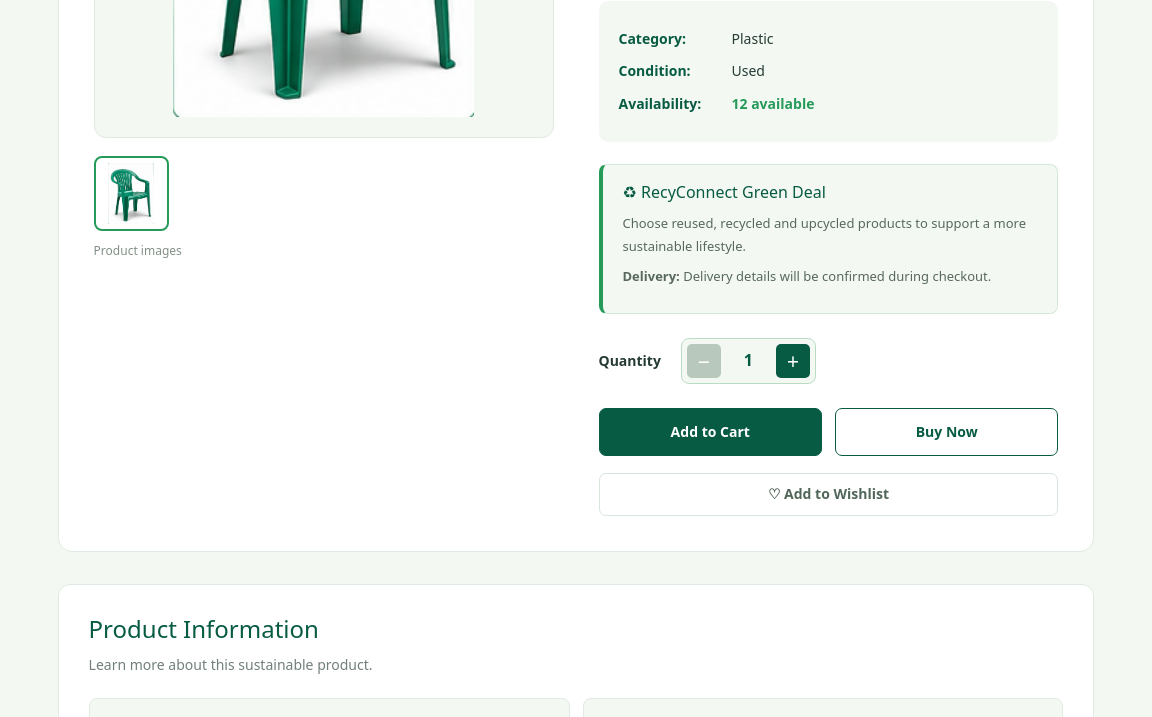
Test: ProductDetails Component › Quantity Controls › increases quantity when the plus button is clicked
(page scrolled)
Click the button "+": point(793, 361) [776, 344, 810, 378]
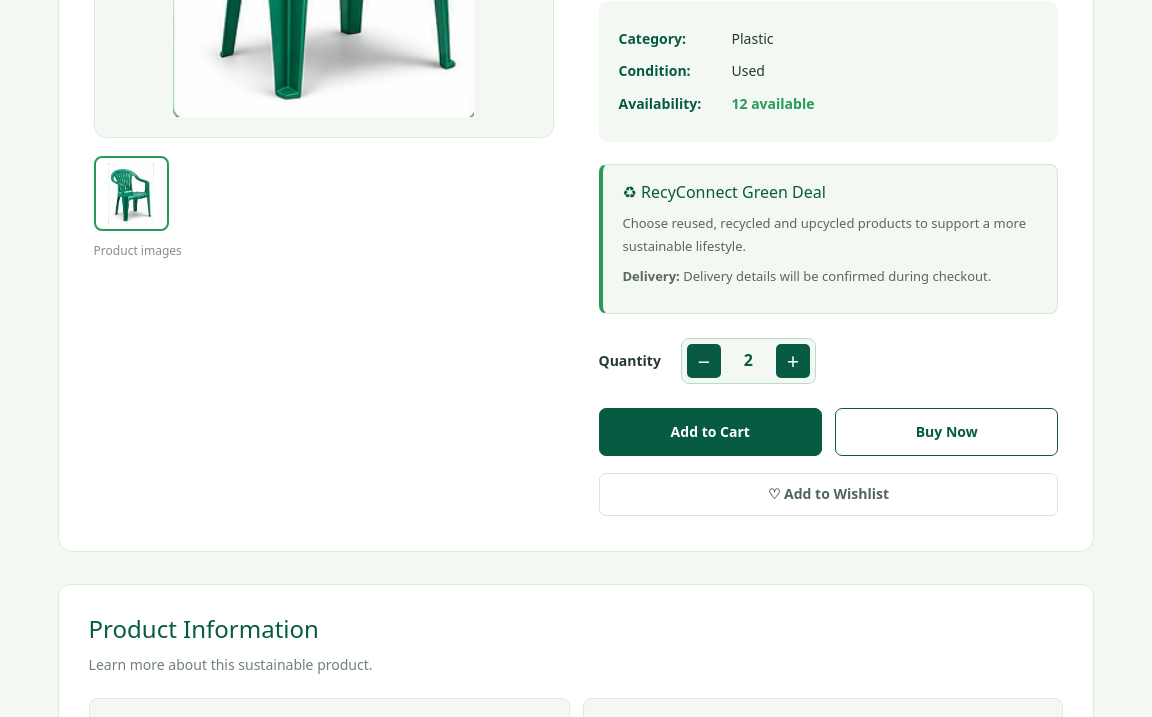
Expected: the text "2" is shown, [744, 348, 753, 374]
